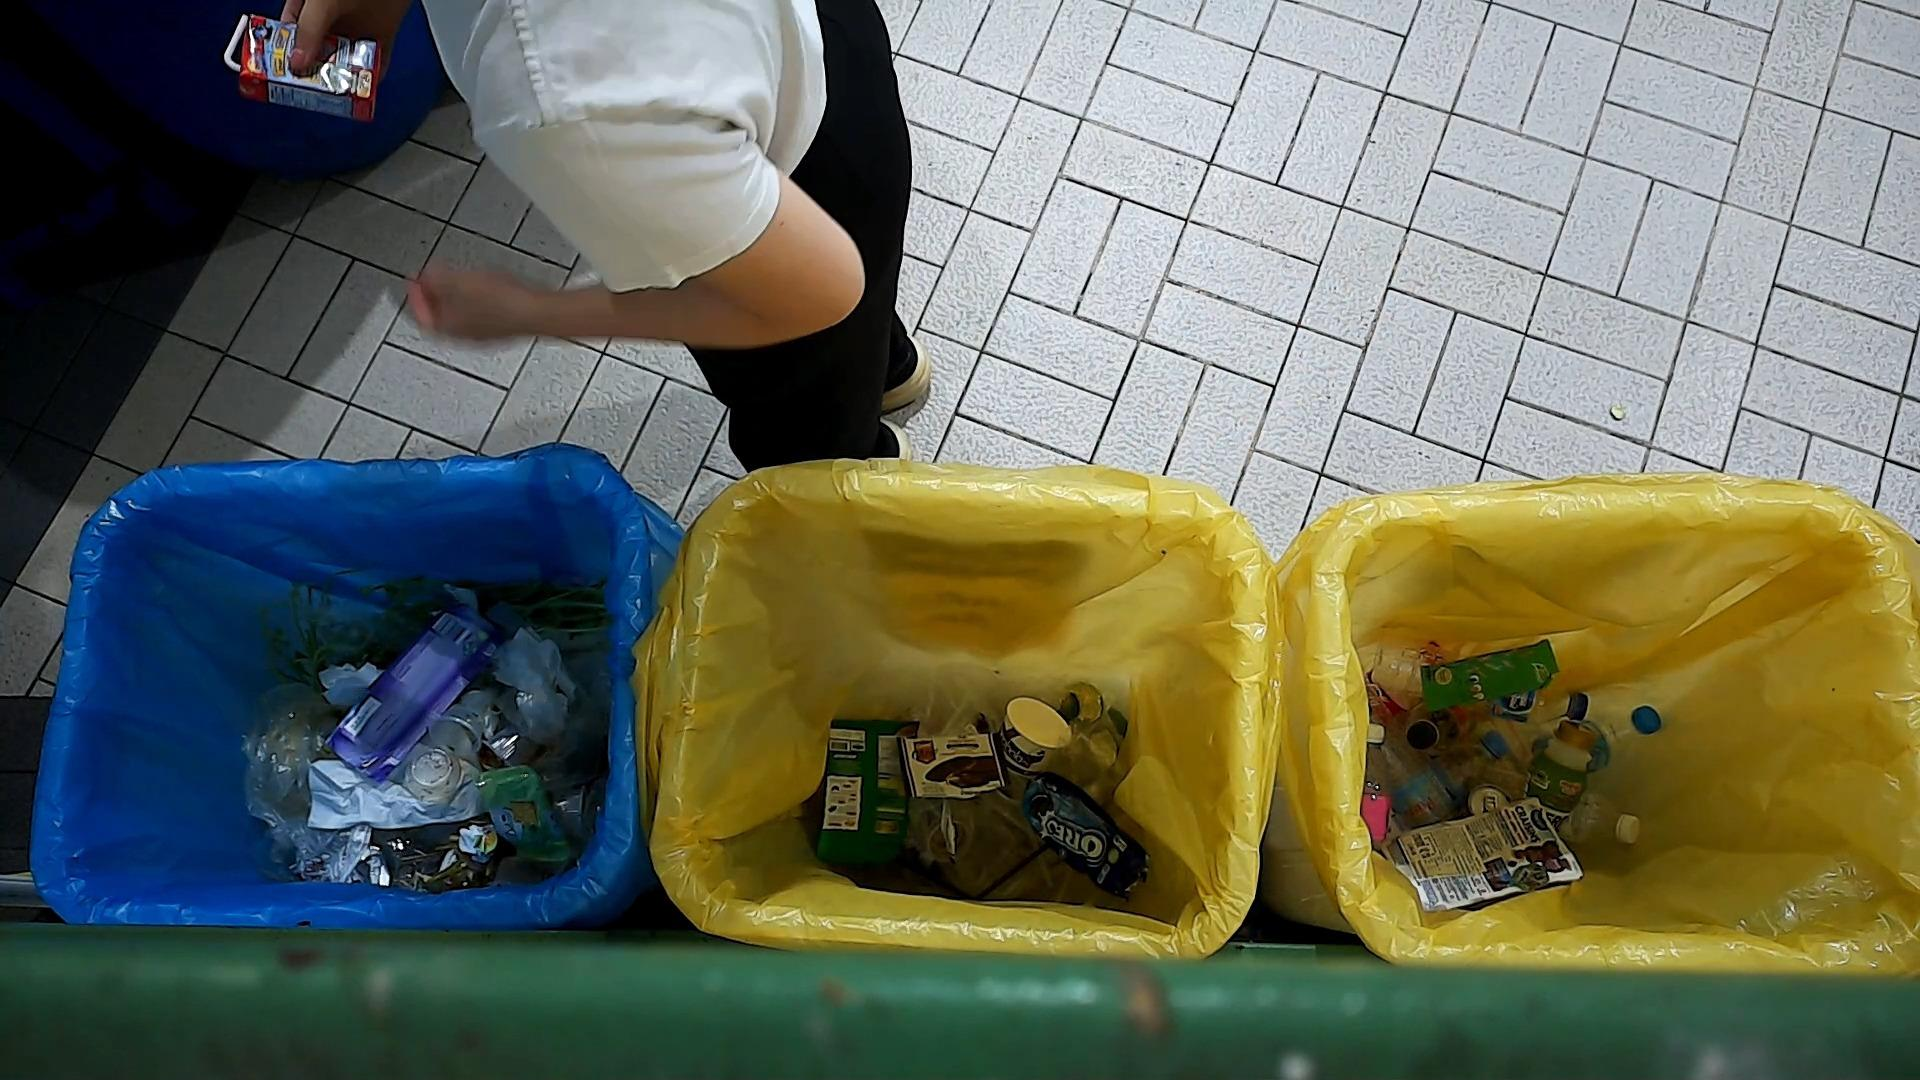can: (1465, 783, 1511, 818)
filled plastic bag: (235, 676, 384, 885)
food container: (993, 694, 1079, 777), (402, 744, 464, 806), (422, 703, 485, 756), (551, 785, 604, 841), (920, 815, 971, 866)
milk carton: (225, 12, 385, 121)
plastic bottle: (1370, 632, 1593, 725), (1394, 727, 1513, 819), (1518, 719, 1601, 832), (1580, 700, 1664, 766), (1400, 694, 1476, 758), (1360, 721, 1393, 849)
snack packaging: (327, 603, 498, 783), (1398, 799, 1584, 911), (812, 720, 919, 865), (1033, 764, 1150, 889), (1415, 632, 1559, 713), (469, 767, 572, 858), (893, 729, 1009, 804)
straw: (967, 840, 1052, 907)
tissue paper: (301, 731, 493, 833), (488, 622, 578, 703), (316, 662, 396, 712), (458, 820, 496, 860)
